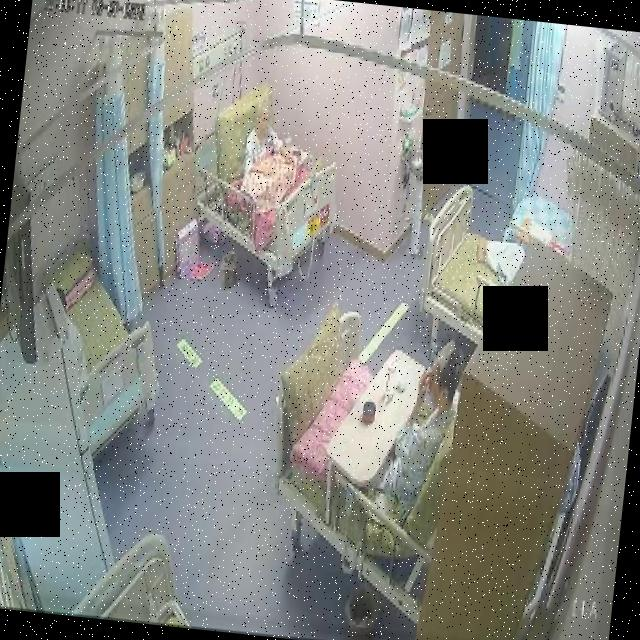bed: (264, 312, 466, 594), (36, 232, 172, 464), (188, 104, 346, 270), (414, 178, 526, 344)
patient: (377, 336, 468, 522), (240, 98, 282, 175)
sit: (284, 326, 466, 516), (233, 102, 315, 204)
